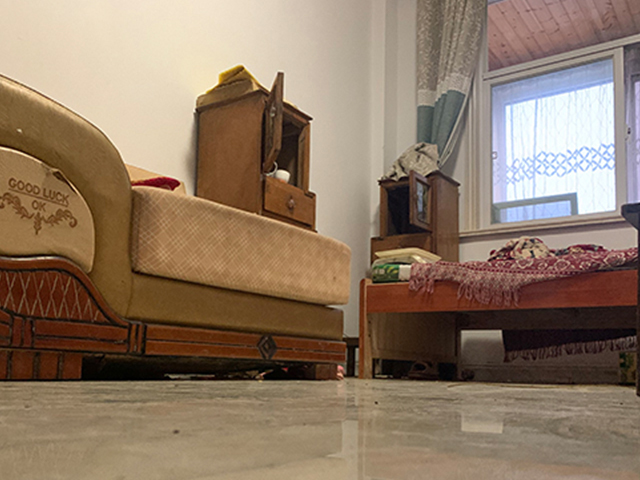bed: (358, 235, 640, 380)
curtain: (392, 1, 482, 184)
slippers: (408, 360, 441, 381)
sofa: (1, 74, 355, 383)
